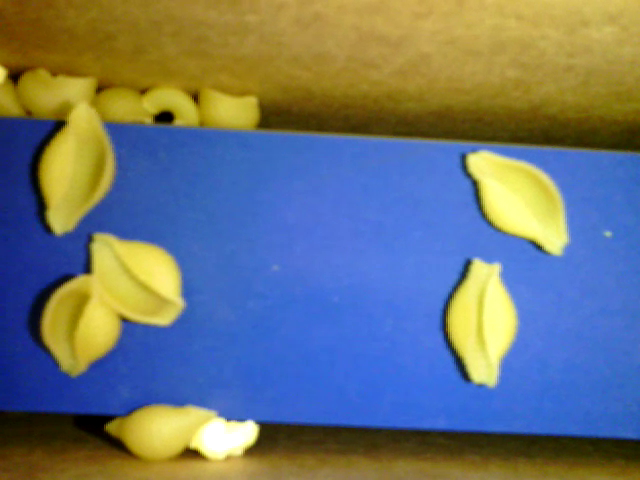elbow: (142, 82, 202, 124)
shell: (461, 150, 569, 257), (35, 99, 115, 237), (446, 255, 517, 389), (89, 236, 186, 325), (39, 274, 122, 376), (105, 401, 219, 459), (15, 66, 95, 125), (198, 85, 257, 130), (94, 81, 154, 123)
